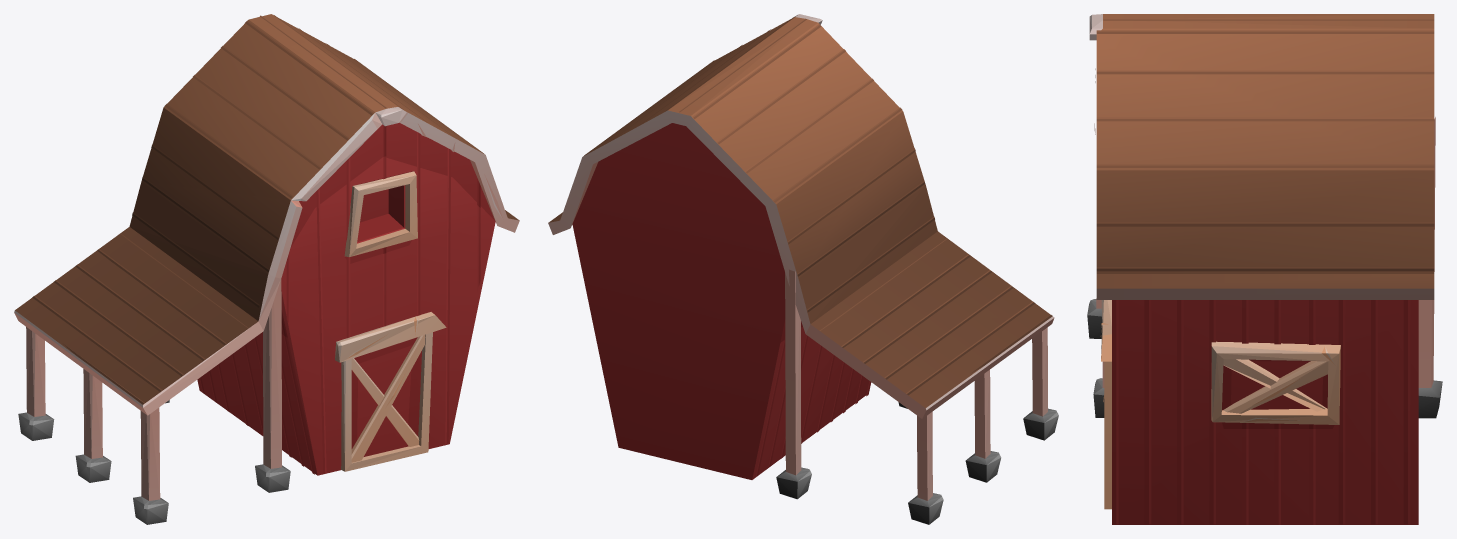
The model's file is barn-big.glb.
3 views of the same model, side by side, from view 1: azimuth 30°, elevation 25°; view 2: azimuth 150°, elevation 25°; view 3: azimuth 270°, elevation 25° (orthographic). The views are drawn at different scales.
Parts seen in each view (by area): view 1: cf_barnlvl3; view 2: cf_barnlvl3; view 3: cf_barnlvl3.
Part boxes in pixels (x1=…): cf_barnlvl3: x1=14, y1=14, x2=519, y2=524; cf_barnlvl3: x1=548, y1=14, x2=1058, y2=524; cf_barnlvl3: x1=1087, y1=14, x2=1442, y2=524.
Bounding box in the file's own units: 7.72 × 6.93 × 4.82.
